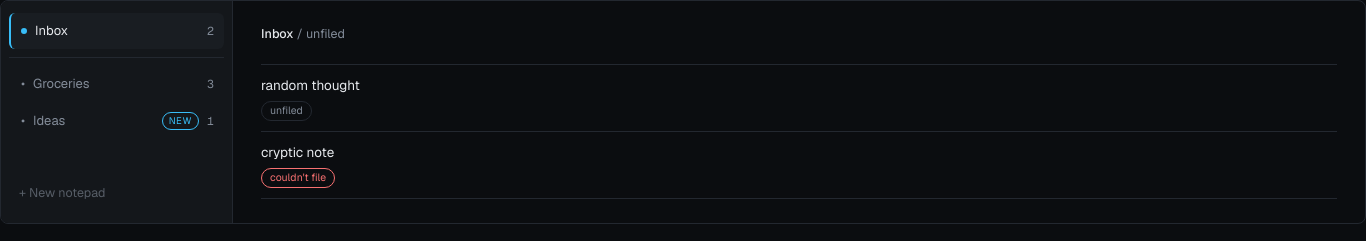
Test case: Notes manager page — detail pane › shows the agent provenance chip on an agent-filed note
What coordinates should you click on to do the following:
click the button "• Ideas new 1"
I would click on:
 (116, 121)
Its box is [9,103,224,138].
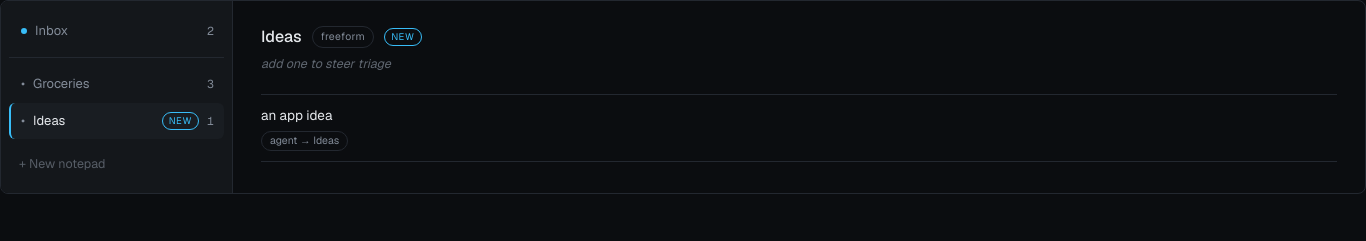
Check: the text "agent → Ideas" is shown, box [261,131,348,151]
